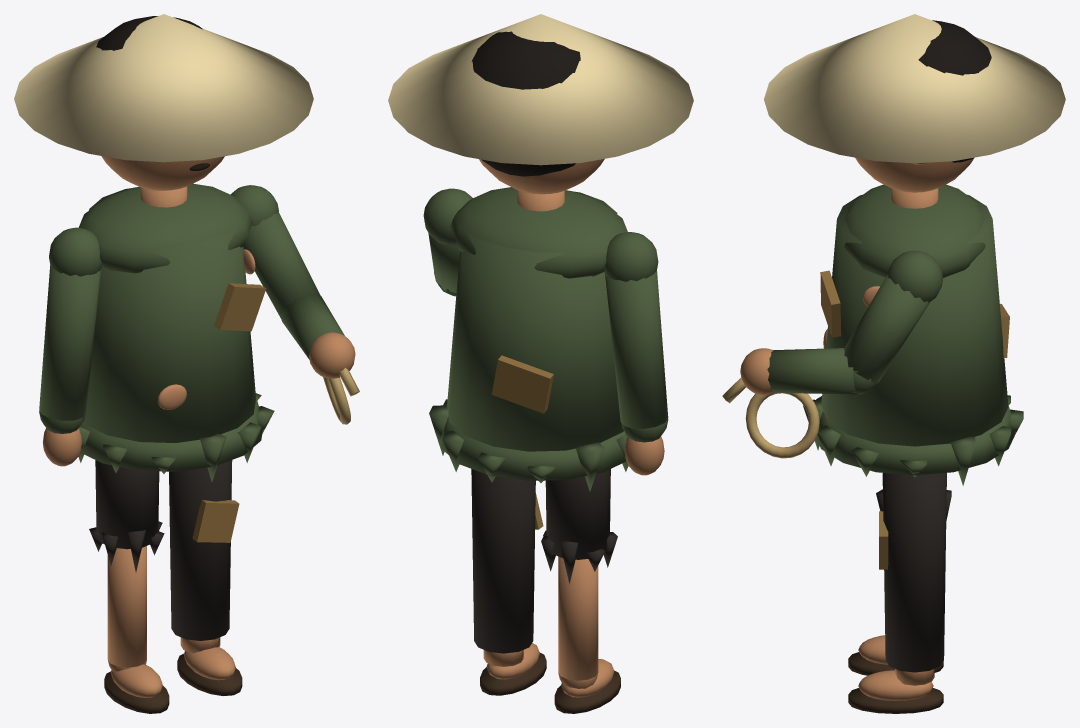
The model's file is villager_dat_trau.glb.
3 views of the same model, side by side, from view 1: azimuth 30°, elevation 25°; view 2: azimuth 150°, elevation 25°; view 3: azimuth 270°, elevation 25° (orthographic).
Visible parts, largest first — view 1: Body, Head, LegR, LegL, ArmL, ArmR; view 2: Body, Head, LegR, LegL, ArmL, ArmR; view 3: Body, Head, LegR, ArmR, LegL.
Boxes of the visible parts, x1,y1,x2,y2 form: Body: [78, 183, 274, 481]; Head: [14, 14, 313, 190]; LegR: [169, 460, 242, 695]; LegL: [89, 460, 169, 713]; ArmL: [39, 227, 102, 466]; ArmR: [230, 185, 359, 424]; Body: [429, 187, 628, 491]; Head: [388, 14, 693, 194]; LegR: [471, 469, 546, 695]; LegL: [541, 469, 620, 713]; ArmL: [604, 232, 668, 475]; ArmR: [423, 188, 472, 296]; Body: [803, 184, 1023, 485]; Head: [764, 14, 1065, 192]; LegR: [848, 473, 946, 713]; ArmR: [722, 250, 942, 458]; LegL: [848, 489, 951, 675].
Size of the model in its own units: 0.64 by 1.57 by 0.7283.
